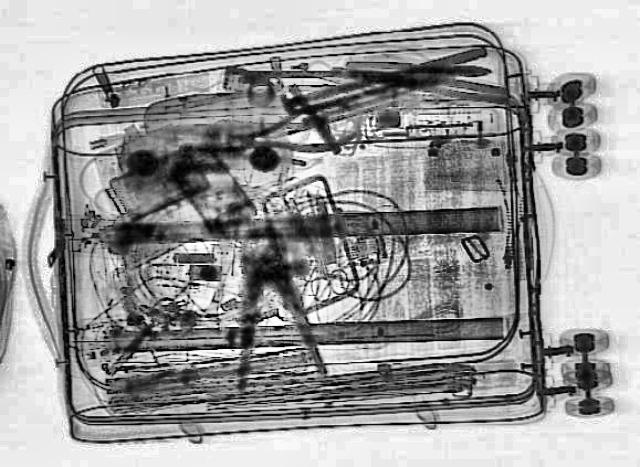Pliers: (209, 228, 329, 392), (207, 97, 359, 167), (341, 54, 509, 104)
